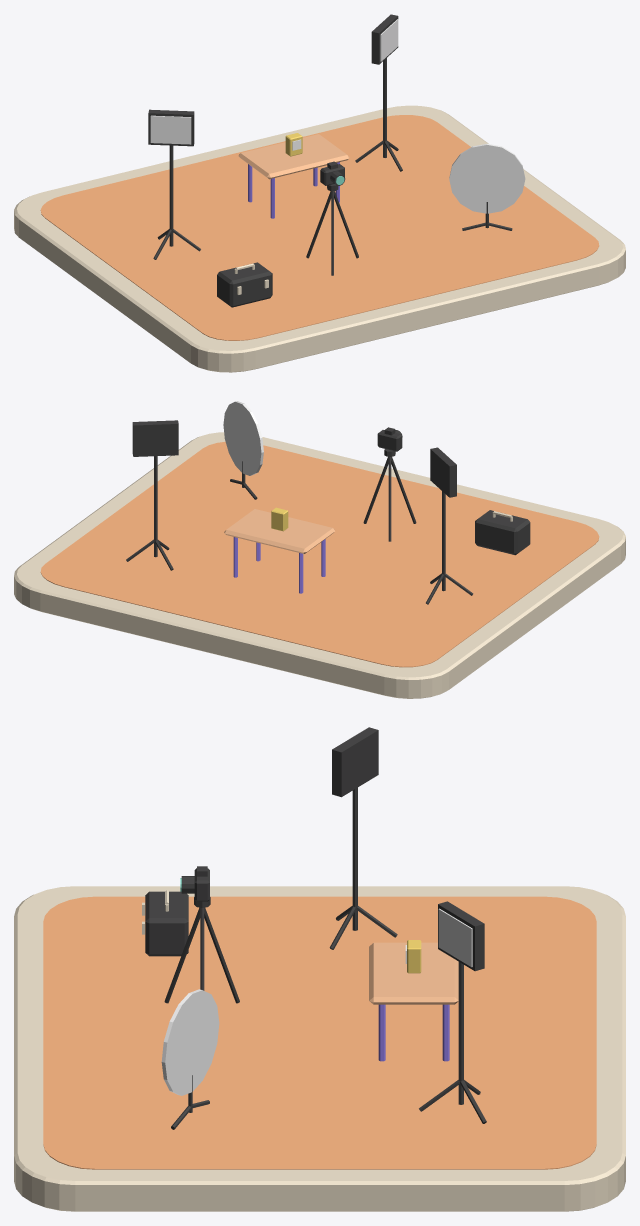
The model's file is room.fbx.
The picture shows the model from 3 angles, top to bottom: view 1: azimuth 30°, elevation 25°; view 2: azimuth 150°, elevation 25°; view 3: azimuth 270°, elevation 25°; orthographic projection. The views are drawn at different scales.
Visible parts, largest first — view 1: COM-02 Floor Surface, COM-01 Rounded Base Direct, Reflector, Rounded table top, Case, Diffuser, Light panel, Light panel.001, Diffuser.001; view 2: COM-02 Floor Surface, COM-01 Rounded Base Direct, Rounded table top, Reflector, Case, Light panel.001, Light panel, Body; view 3: COM-02 Floor Surface, COM-01 Rounded Base Direct, Rounded table top, Reflector, Case, Light panel, Diffuser.001, Light panel.001, Pole.001, Pole.
Part boxes in pixels (x1,y1,x2,y2): COM-02 Floor Surface: (40, 115, 599, 340); COM-01 Rounded Base Direct: (14, 105, 625, 372); Reflector: (449, 143, 525, 213); Rounded table top: (238, 134, 349, 179); Case: (217, 262, 272, 307); Diffuser: (150, 115, 191, 144); Light panel: (148, 109, 194, 146); Light panel.001: (371, 14, 398, 64); Diffuser.001: (380, 19, 398, 61); COM-02 Floor Surface: (40, 441, 599, 667); COM-01 Rounded Base Direct: (14, 432, 625, 698); Rounded table top: (224, 509, 334, 553); Reflector: (223, 401, 263, 475); Case: (475, 510, 530, 555); Light panel.001: (132, 420, 178, 456); Light panel: (430, 447, 456, 497); Body: (377, 430, 402, 451); COM-02 Floor Surface: (43, 896, 596, 1169); COM-01 Rounded Base Direct: (14, 886, 625, 1211); Rounded table top: (369, 942, 458, 1004); Reflector: (161, 989, 219, 1095); Case: (145, 891, 188, 956); Light panel: (332, 727, 378, 797); Diffuser.001: (438, 908, 472, 967); Light panel.001: (438, 901, 484, 971); Pole.001: (458, 962, 463, 1104); Pole: (352, 787, 357, 930).
Size of the model in its own units: 600 by 216 by 520.
